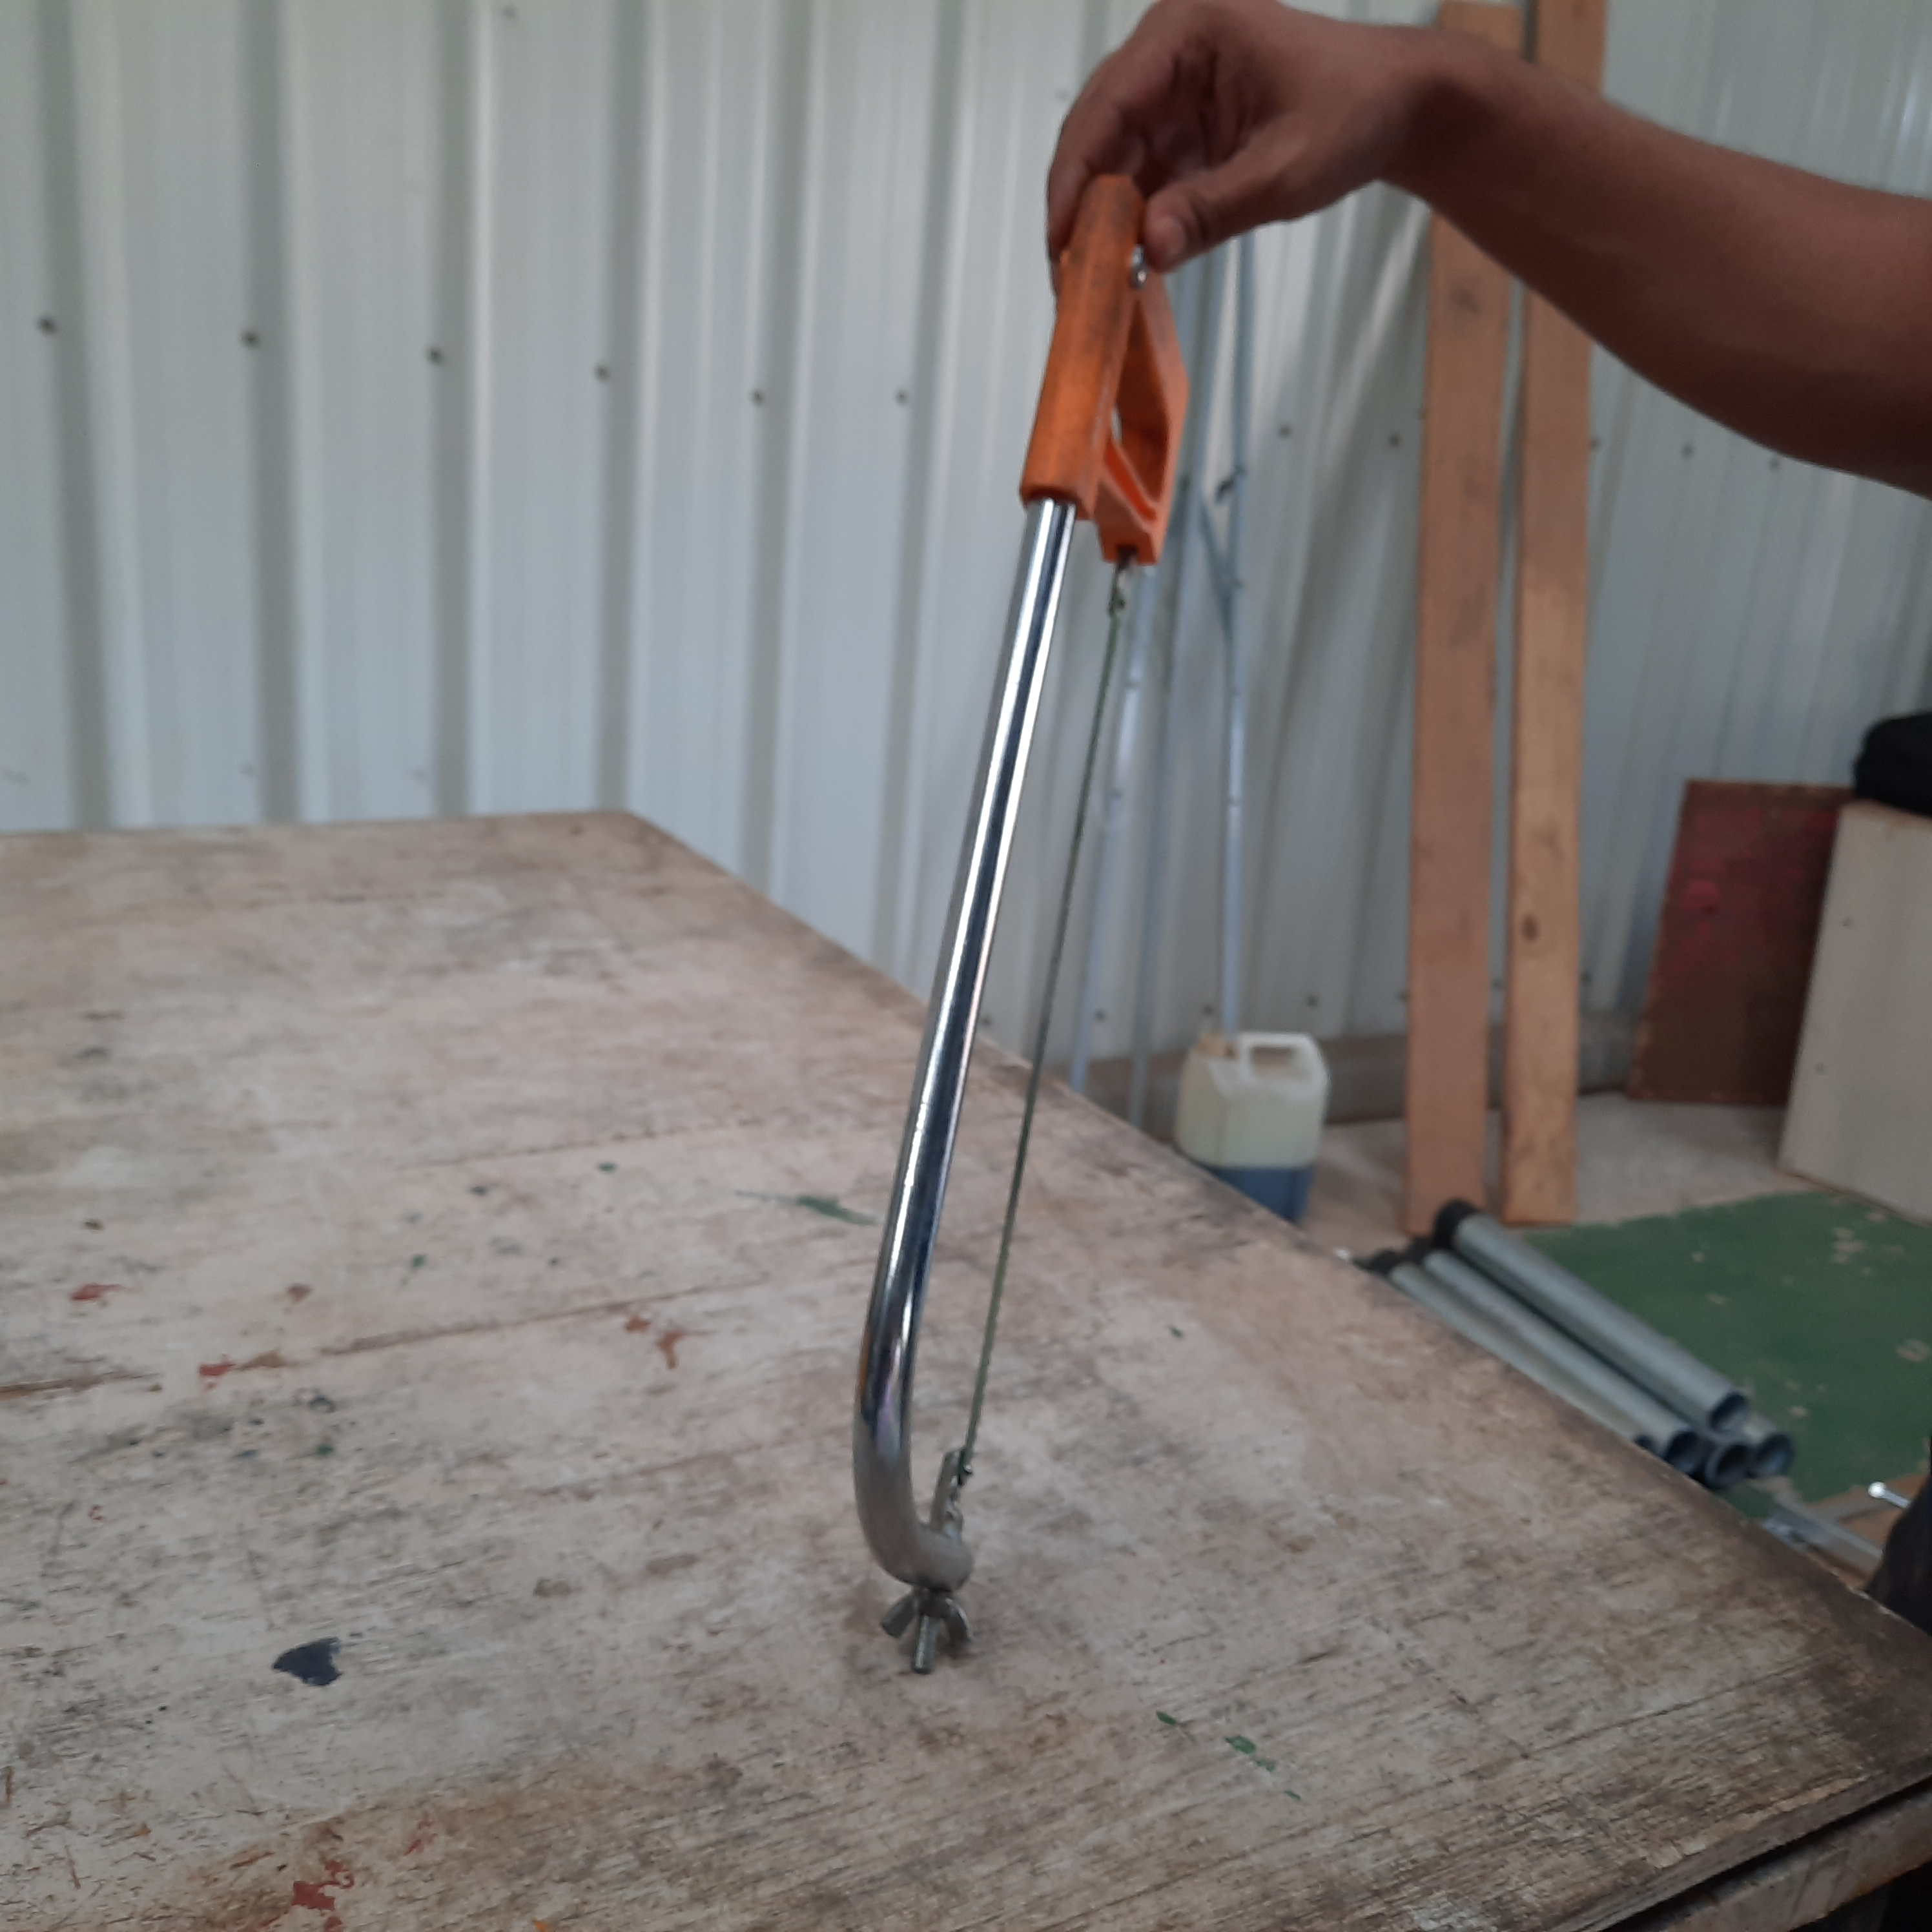Hexaframe: (770, 159, 1235, 1677)
